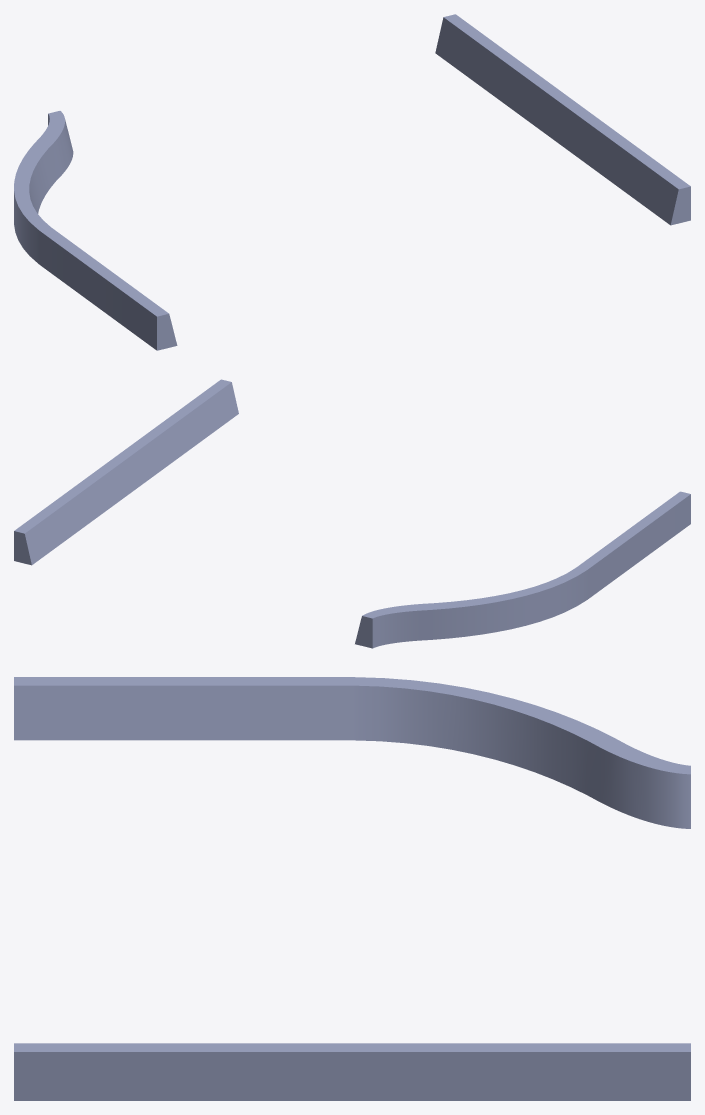
File: road-side-entry-barrier.glb
3 renders of one model, top to bottom at view 1: azimuth 30°, elevation 25°; view 2: azimuth 150°, elevation 25°; view 3: azimuth 270°, elevation 25°, orthographic. The views are drawn at different scales.
Parts seen in each view (by area): view 1: road-side-entry-barrier; view 2: road-side-entry-barrier; view 3: road-side-entry-barrier.
Boxes of the visible parts, <box> form: road-side-entry-barrier: <box>14,14,690,350</box>; road-side-entry-barrier: <box>14,379,690,648</box>; road-side-entry-barrier: <box>14,677,690,1100</box>.
Size of the model in its own units: 1.31 by 0.08 by 1.
Materials: 1 (1 with a texture image).
